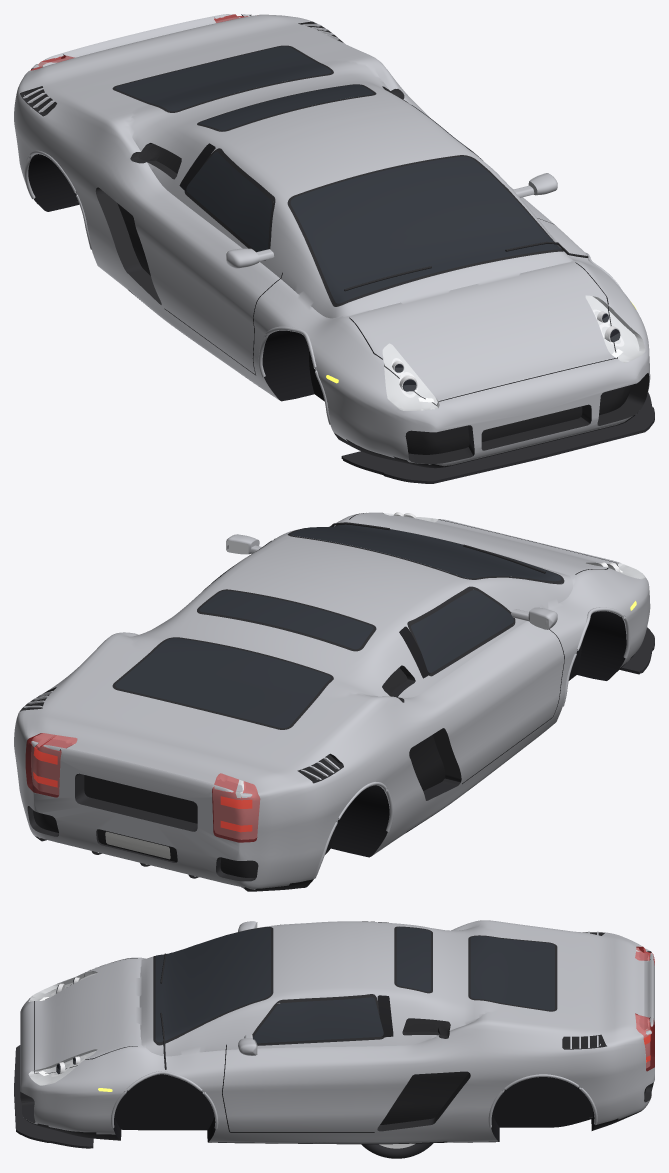
The model's file is corrida.glb.
3 views of the same model, one above another, from view 1: azimuth 30°, elevation 25°; view 2: azimuth 150°, elevation 25°; view 3: azimuth 270°, elevation 25° (orthographic). The views are drawn at different scales.
Parts seen in each view (by area): view 1: Body; view 2: Body; view 3: Body, TyreR.
Boxes of the visible parts, <box> form: Body: <box>14,14,654,483</box>; Body: <box>14,512,654,891</box>; Body: <box>14,920,654,1148</box>; TyreR: <box>361,1143,432,1158</box>.
Bounding box in the file's own units: 2.02 × 1.49 × 4.33.
